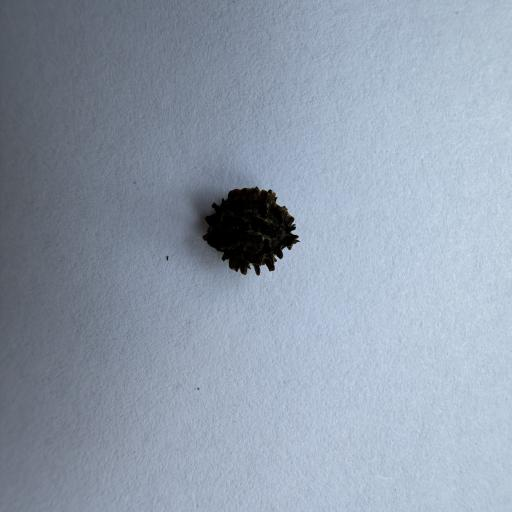papaya_seed: (194, 172, 307, 278)
